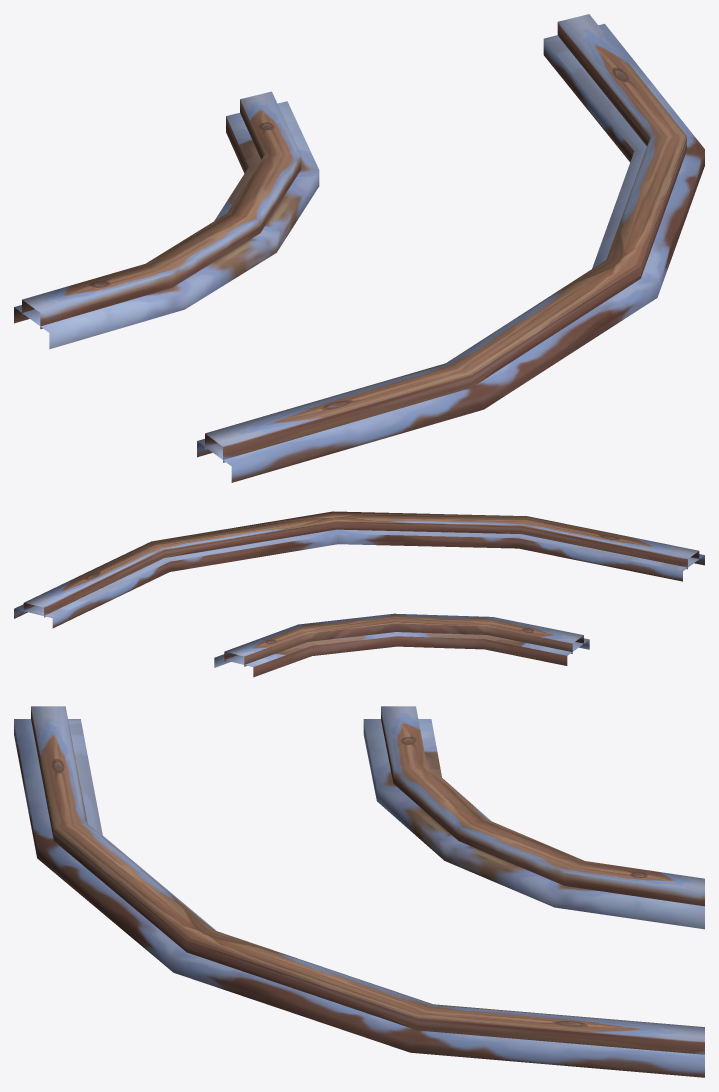
File: Map_10_wooden03.FBX
3 views of the same model, one above another, from view 1: azimuth 30°, elevation 25°; view 2: azimuth 150°, elevation 25°; view 3: azimuth 270°, elevation 25° (orthographic). The views are drawn at different scales.
Parts seen in each view (by area): view 1: Map_10_wooden03; view 2: Map_10_wooden03; view 3: Map_10_wooden03.
Part boxes in pixels (x1,y1,x2,y2): Map_10_wooden03: (14, 14, 704, 482); Map_10_wooden03: (14, 511, 704, 677); Map_10_wooden03: (14, 706, 704, 1077).
Bounding box in the file's own units: 12.12 × 0.4707 × 10.32.
